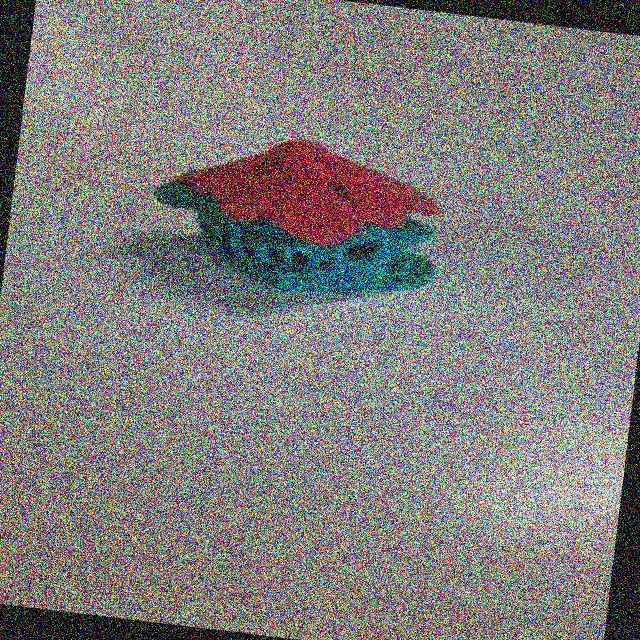House: (103, 100, 474, 359)
